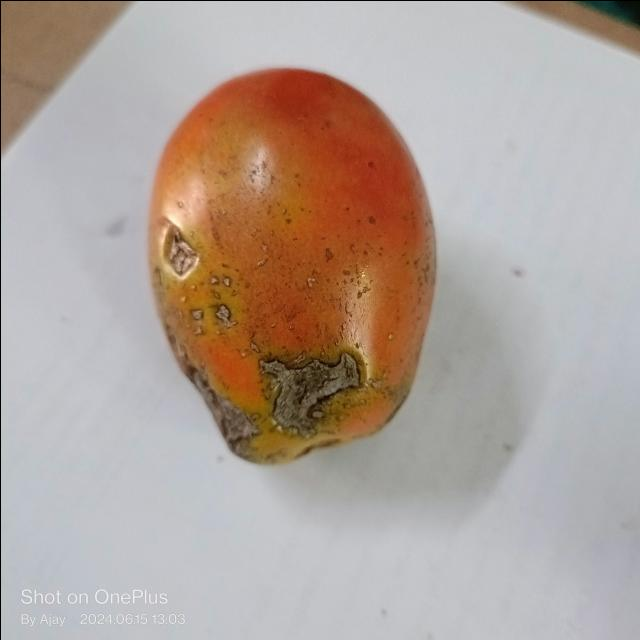Bacterial_Spot: (251, 333, 367, 435), (155, 221, 203, 277), (212, 398, 245, 438), (183, 352, 211, 382), (212, 302, 236, 330)
